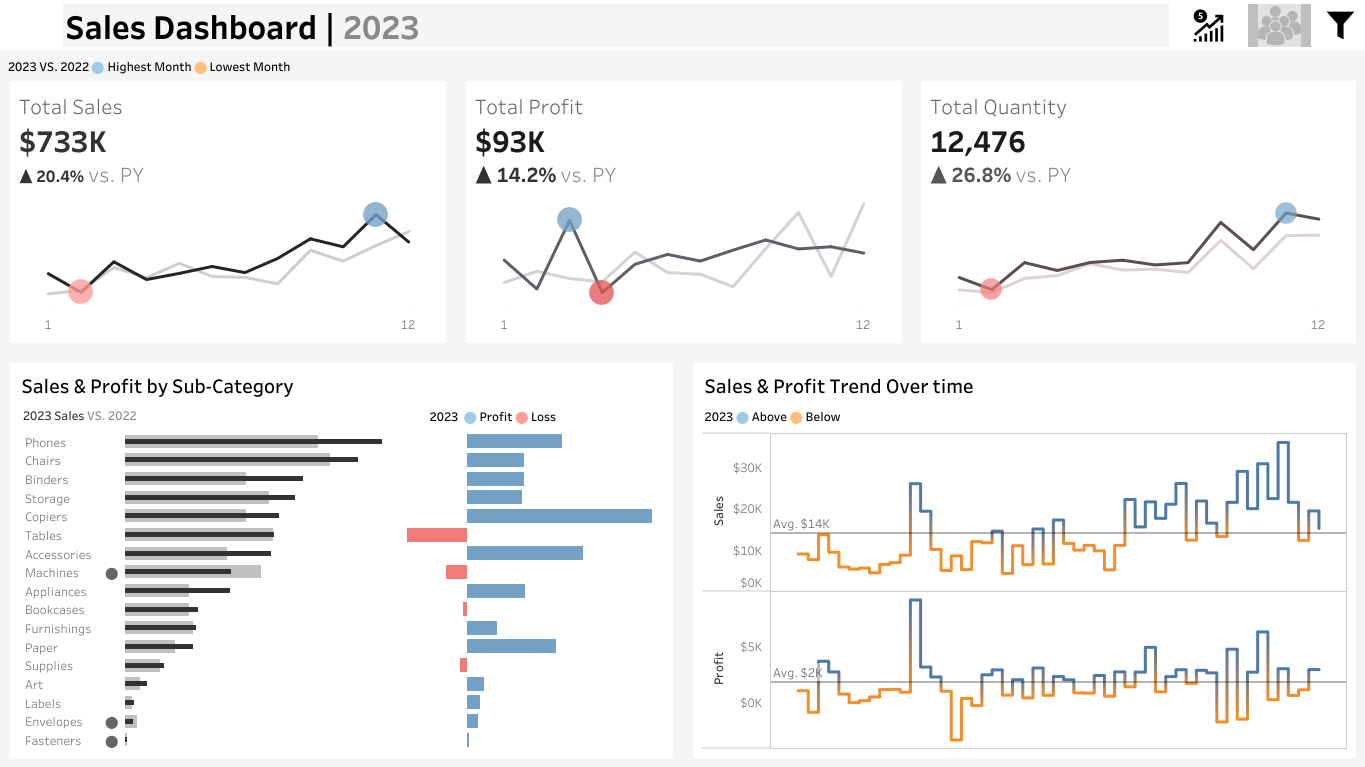

The page's visual inventory and layout, read from the dashboard file:
{"tool":"tableau","page":{"name":"Dashboard","canvas":[1366,768],"ordinal":0},"visuals":[{"type":"image","box":[0,0,59,51]},{"type":"text","box":[59,0,1114,51]},{"type":"dashboard-object","box":[1173,0,71,51]},{"type":"dashboard-object","box":[1244,0,71,51]},{"type":"dashboard-object","box":[1315,0,51,51]},{"type":"worksheet","title":"Legends KPI","mark":"Automatic","box":[0,51,1366,30]},{"type":"blank","box":[1202,53,160,54]},{"type":"worksheet","title":"KPI Sales","mark":"Automatic","rows":["Calculation_0001055243264026"],"cols":["Order Date"],"box":[0,81,456,272]},{"type":"worksheet","title":"KPI Profit","mark":"Line","rows":["Min/Max Sales (copy)_0001068147372047"],"cols":["Order Date"],"box":[456,81,455,272]},{"type":"worksheet","title":"KPI Quantity","mark":"Automatic","rows":["Calculation_0001068354592835"],"cols":["Order Date"],"box":[911,81,455,272]},{"type":"text","box":[1202,107,160,34]},{"type":"parameter","param":"[Parameters].[Parameter 1]","box":[1202,141,160,56]},{"type":"text","box":[1202,197,160,31]},{"type":"filter","title":"KPI Sales","param":"[federated.05z6qhg1d6e8pt19y7hcj15em6yc].[none:Category:nk]","box":[1202,228,160,56]},{"type":"filter","title":"KPI Sales","param":"[federated.05z6qhg1d6e8pt19y7hcj15em6yc].[none:Sub-Category:nk]","box":[1202,284,160,56]},{"type":"text","box":[1202,340,160,31]},{"type":"text","box":[15,368,653,35]},{"type":"text","box":[698,368,653,35]},{"type":"filter","title":"KPI Sales","param":"[federated.05z6qhg1d6e8pt19y7hcj15em6yc].[none:Region:nk]","box":[1202,371,160,56]},{"type":"worksheet","title":"Legends","mark":"Automatic","box":[15,403,408,25]},{"type":"text","box":[423,403,245,25]},{"type":"text","box":[698,403,653,26]},{"type":"filter","title":"KPI Sales","param":"[federated.05z6qhg1d6e8pt19y7hcj15em6yc].[none:State:nk]","box":[1202,427,160,56]},{"type":"worksheet","title":"Sub-Category Comparison","mark":"Bar","rows":["Sub-Category","Calculation_0001068594409512"],"cols":["CY Sales (copy)_0001055221313558","Calculation_0001055220674581","Calculation_0001068146855949"],"box":[15,428,653,325]},{"type":"worksheet","title":"Weekly Trends","mark":"Automatic","rows":["Calculation_0001055220674581","Calculation_0001068146855949"],"cols":["Order Date"],"box":[698,429,653,324]},{"type":"filter","title":"KPI Sales","param":"[federated.05z6qhg1d6e8pt19y7hcj15em6yc].[none:City:nk]","box":[1202,483,160,56]}]}

Visuals, with their boxes in screenshot pixels (x1, y1, x2, y2), scaled from the page's 1366x768 canvas onto the 1365x767 screenshot:
image: 0, 0, 59, 51
text: 59, 0, 1172, 51
dashboard-object: 1172, 0, 1243, 51
dashboard-object: 1243, 0, 1314, 51
dashboard-object: 1314, 0, 1364, 51
"Legends KPI" worksheet: 0, 51, 1364, 81
blank: 1201, 53, 1361, 107
"KPI Sales" worksheet: 0, 81, 456, 353
"KPI Profit" worksheet (Line marks): 456, 81, 910, 353
"KPI Quantity" worksheet: 910, 81, 1364, 353
text: 1201, 107, 1361, 141
parameter: 1201, 141, 1361, 197
text: 1201, 197, 1361, 228
"KPI Sales" filter: 1201, 228, 1361, 284
"KPI Sales" filter: 1201, 284, 1361, 340
text: 1201, 340, 1361, 371
text: 15, 368, 668, 402
text: 697, 368, 1350, 402
"KPI Sales" filter: 1201, 371, 1361, 426
"Legends" worksheet: 15, 402, 423, 427
text: 423, 402, 668, 427
text: 697, 402, 1350, 428
"KPI Sales" filter: 1201, 426, 1361, 482
"Sub-Category Comparison" worksheet (Bar marks): 15, 427, 668, 752
"Weekly Trends" worksheet: 697, 428, 1350, 752
"KPI Sales" filter: 1201, 482, 1361, 538
